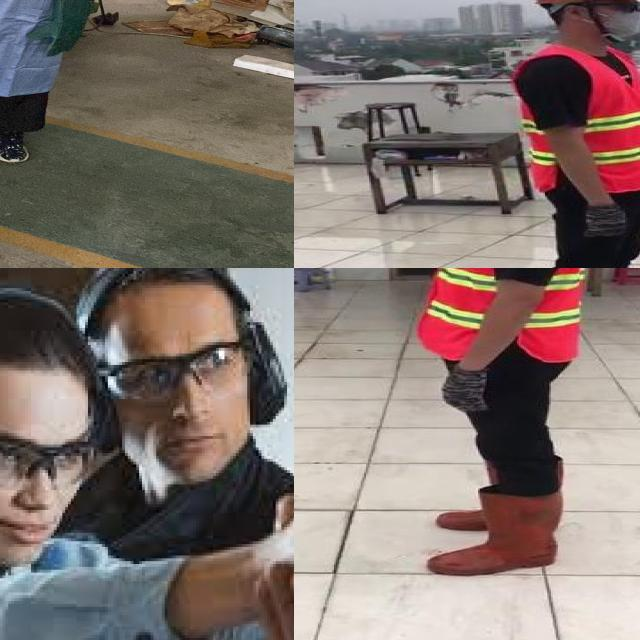Ear-protection: (239, 314, 290, 428)
boots: (423, 489, 563, 576)
face_mask: (591, 0, 640, 35)
glasses: (91, 325, 247, 402), (0, 413, 99, 492), (604, 0, 640, 17)
hand_glove: (26, 16, 86, 55), (442, 365, 488, 413), (580, 204, 633, 242)
person: (398, 268, 601, 597), (508, 0, 640, 268), (0, 0, 132, 172)
shoes: (0, 123, 38, 165)
vest: (515, 42, 640, 192), (421, 268, 583, 363)
